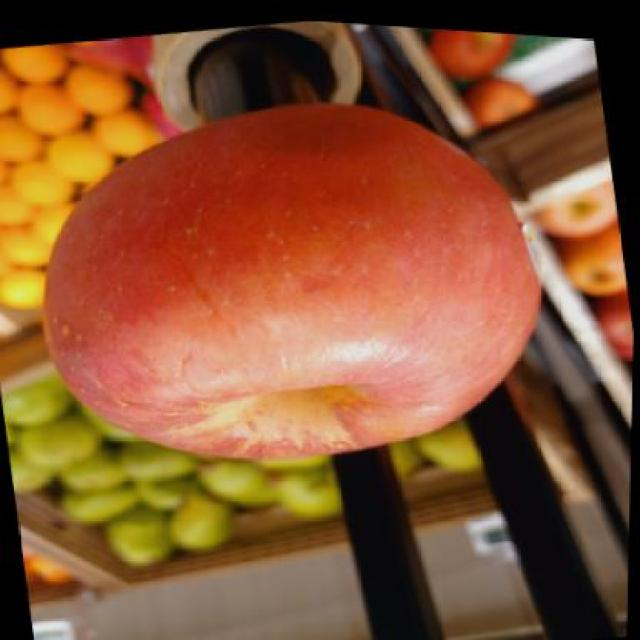Fresh Apple: (48, 112, 538, 462)
